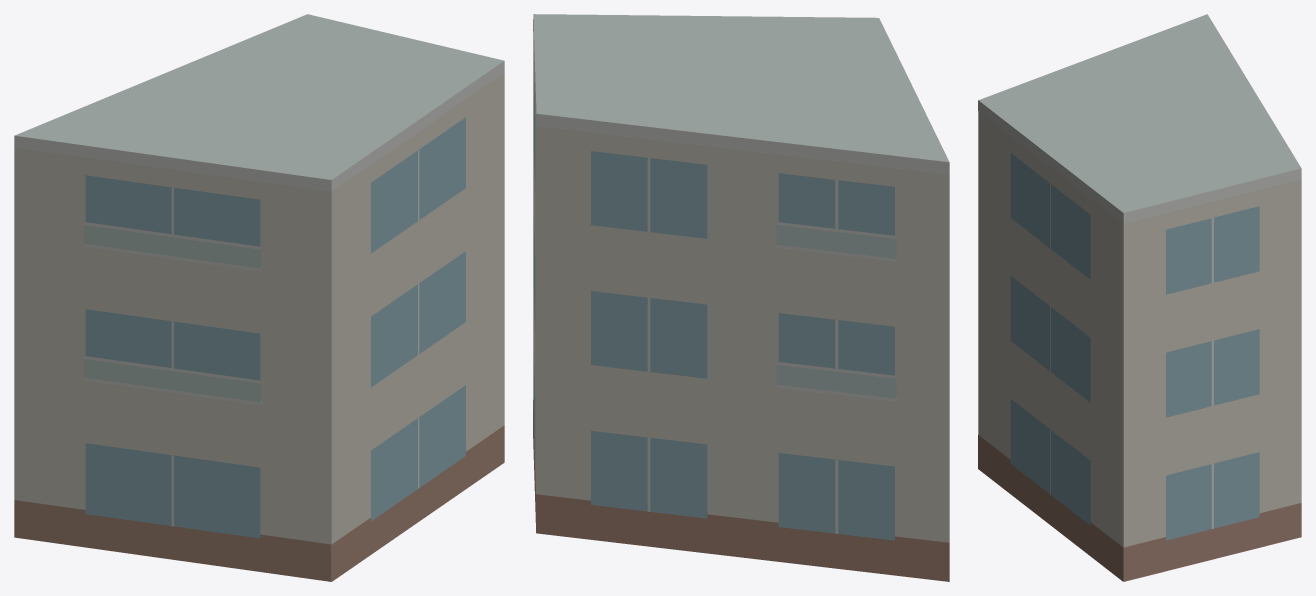
File: survey-upis-32474682.glb
3 views of the same model, side by side, from view 1: azimuth 30°, elevation 25°; view 2: azimuth 150°, elevation 25°; view 3: azimuth 270°, elevation 25° (orthographic). The views are drawn at different scales.
Visible parts, largest first — view 1: survey-upis-32474682.tmp; view 2: survey-upis-32474682.tmp; view 3: survey-upis-32474682.tmp.
Boxes of the visible parts, x1,y1,x2,y2 form: survey-upis-32474682.tmp: [14, 14, 504, 581]; survey-upis-32474682.tmp: [533, 14, 949, 581]; survey-upis-32474682.tmp: [978, 14, 1301, 581].
Bounding box in the file's own units: 9.62 × 8.3 × 6.61.
